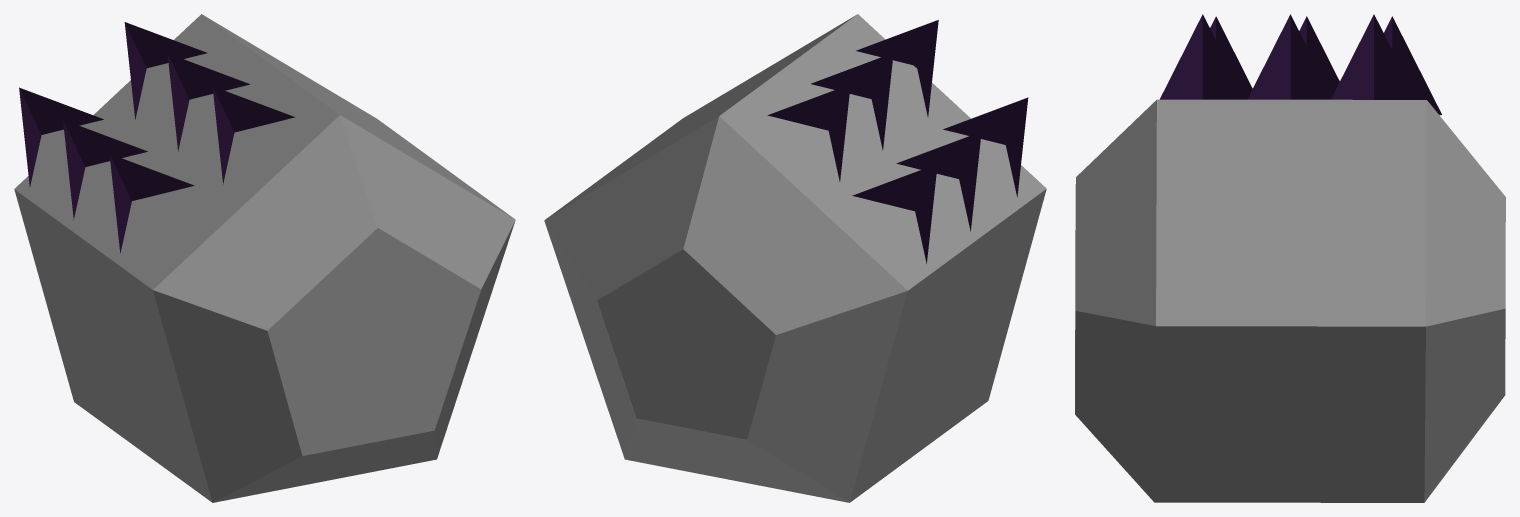
File: ona_bomba.glb
The picture shows the model from 3 angles, left to right: view 1: azimuth 30°, elevation 25°; view 2: azimuth 150°, elevation 25°; view 3: azimuth 270°, elevation 25°; orthographic projection. The views are drawn at different scales.
Visible parts, largest first — view 1: Cylinder; view 2: Cylinder; view 3: Cylinder.
Part boxes in pixels (bbox=[...]): Cylinder: bbox=[14, 14, 515, 502]; Cylinder: bbox=[544, 14, 1046, 502]; Cylinder: bbox=[1075, 14, 1505, 502].
Size of the model in its own units: 1.08 by 1.11 by 1.1.
